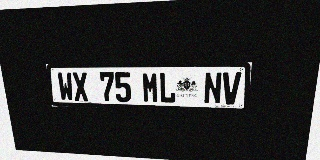5: (114, 72, 132, 102)
7: (98, 72, 116, 102)
L: (159, 72, 176, 103)
M: (142, 72, 159, 103)
N: (203, 72, 222, 104)
V: (221, 72, 241, 105)
W: (57, 72, 74, 101)
X: (72, 72, 89, 101)
